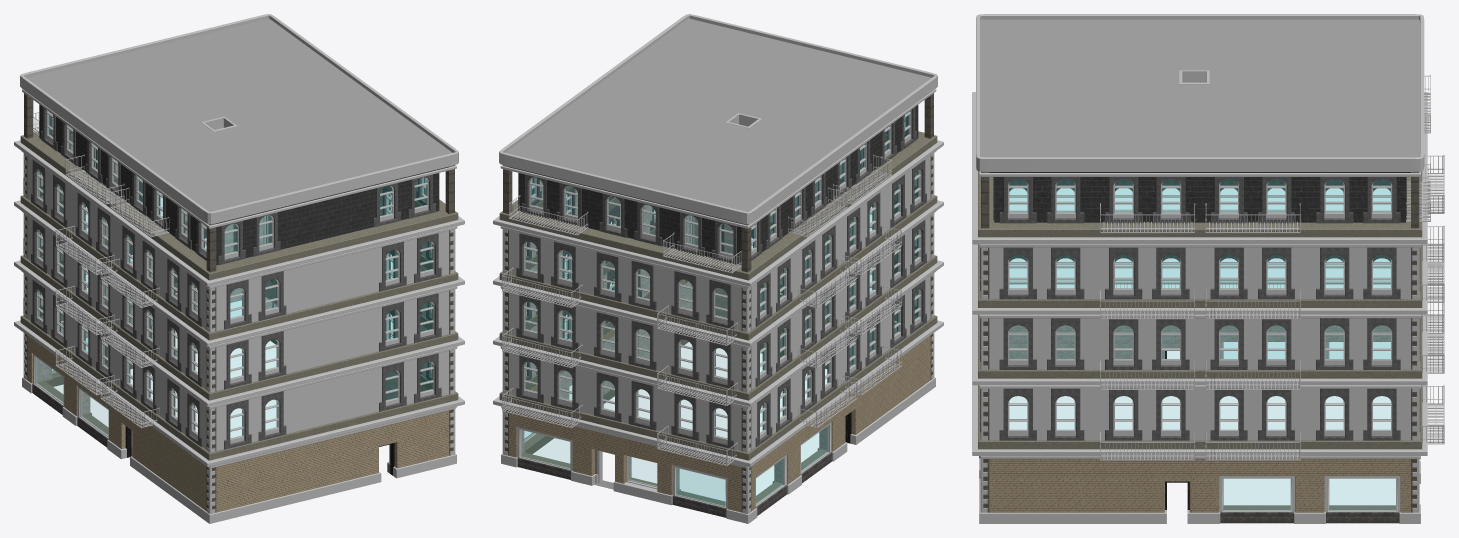
The model's file is SM_Building19_V1.fbx.
3 views of the same model, side by side, from view 1: azimuth 30°, elevation 25°; view 2: azimuth 150°, elevation 25°; view 3: azimuth 270°, elevation 25° (orthographic). The views are drawn at different scales.
Parts seen in each view (by area): view 1: SM_Building19_V1; view 2: SM_Building19_V1; view 3: SM_Building19_V1.
Boxes of the visible parts, <box> form: SM_Building19_V1: <box>14,14,464,523</box>; SM_Building19_V1: <box>493,14,943,523</box>; SM_Building19_V1: <box>972,14,1444,523</box>.
Bounding box in the file's own units: 1992 × 2102 × 2453.
